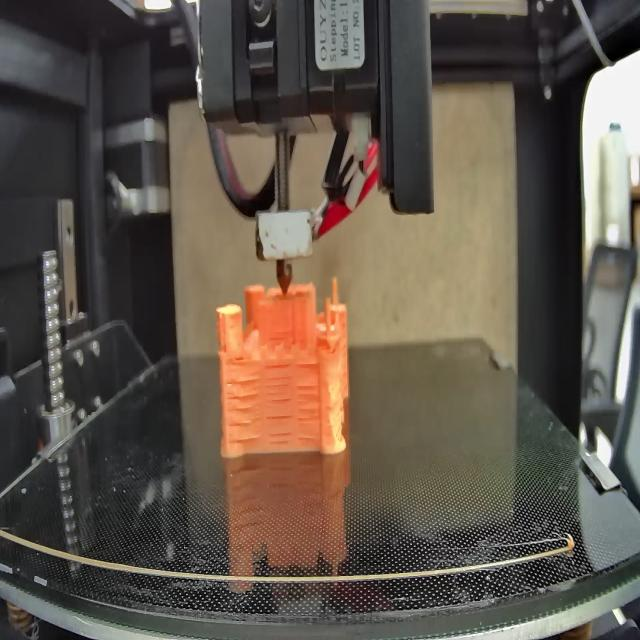cracks: (225, 380, 260, 446), (263, 358, 292, 406), (296, 382, 318, 439), (264, 414, 293, 444), (268, 324, 287, 340), (296, 356, 319, 369), (231, 347, 246, 366)
